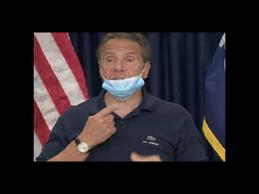mask_weared_incorrect: (102, 50, 142, 92)
